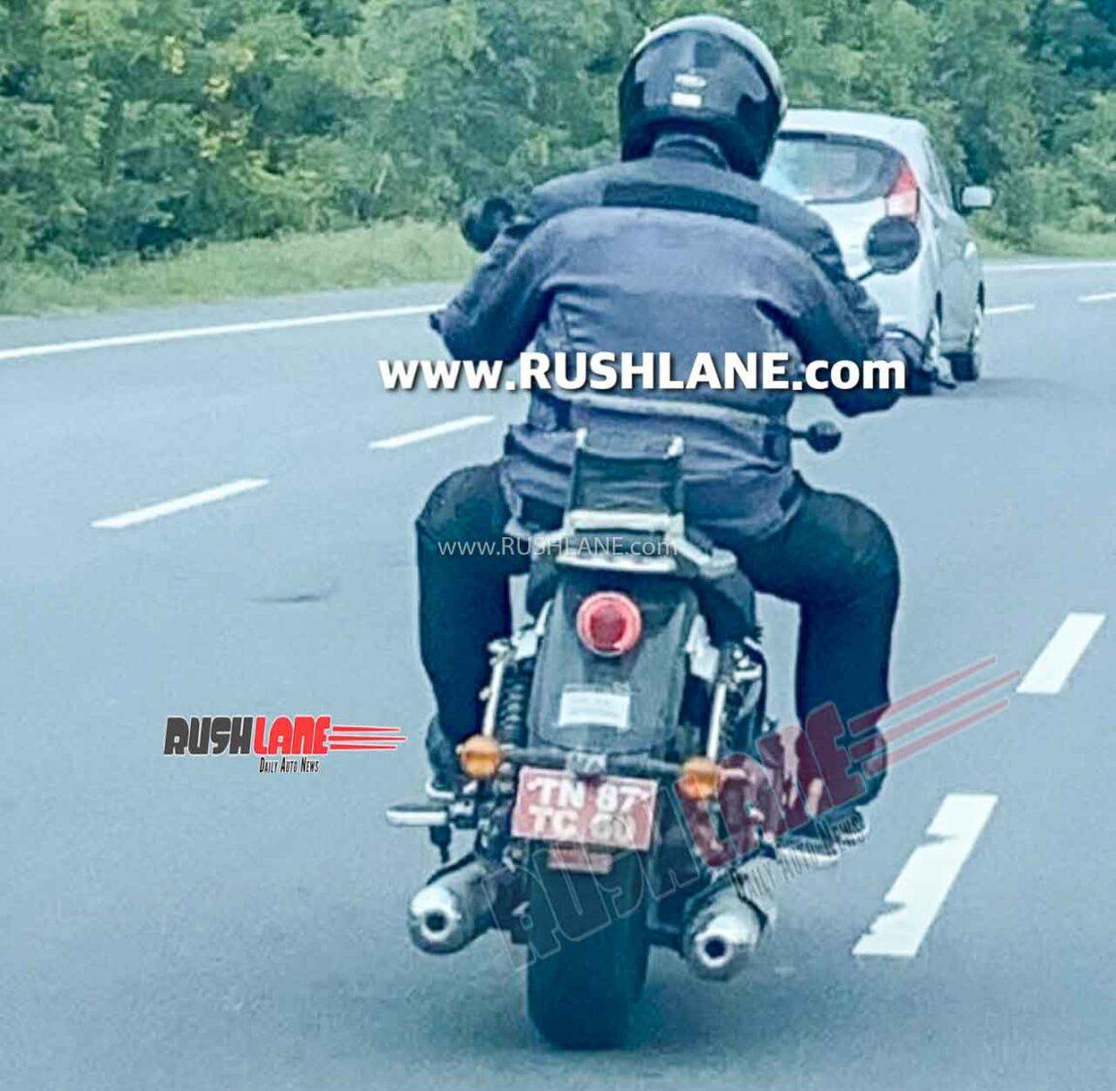helmet: (601, 0, 824, 186)
